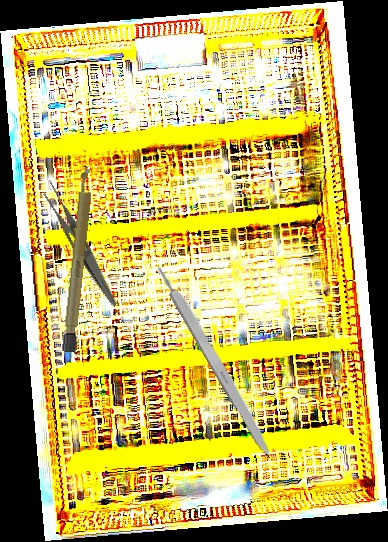Dressing Forceps: (33, 178, 131, 308)
Scalpel Handle: (154, 262, 278, 461), (61, 165, 96, 353)
